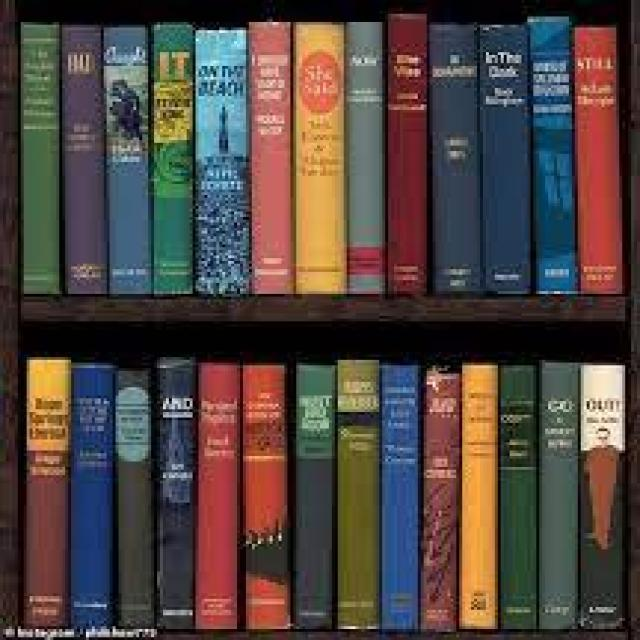book: (428, 26, 484, 292), (294, 23, 345, 293), (529, 13, 578, 293), (196, 29, 247, 295), (573, 27, 623, 292), (481, 25, 530, 295), (244, 363, 292, 628), (62, 27, 107, 296), (291, 364, 335, 627), (338, 360, 381, 628), (107, 28, 150, 295), (248, 22, 290, 294), (72, 366, 116, 625), (582, 365, 625, 627), (27, 359, 69, 626), (388, 16, 426, 292), (198, 365, 238, 626), (346, 23, 384, 293), (23, 22, 60, 295), (383, 366, 420, 629), (155, 27, 191, 295), (116, 373, 154, 626), (499, 366, 535, 628), (158, 359, 193, 625), (542, 362, 575, 628), (425, 370, 458, 628), (463, 364, 495, 629)
